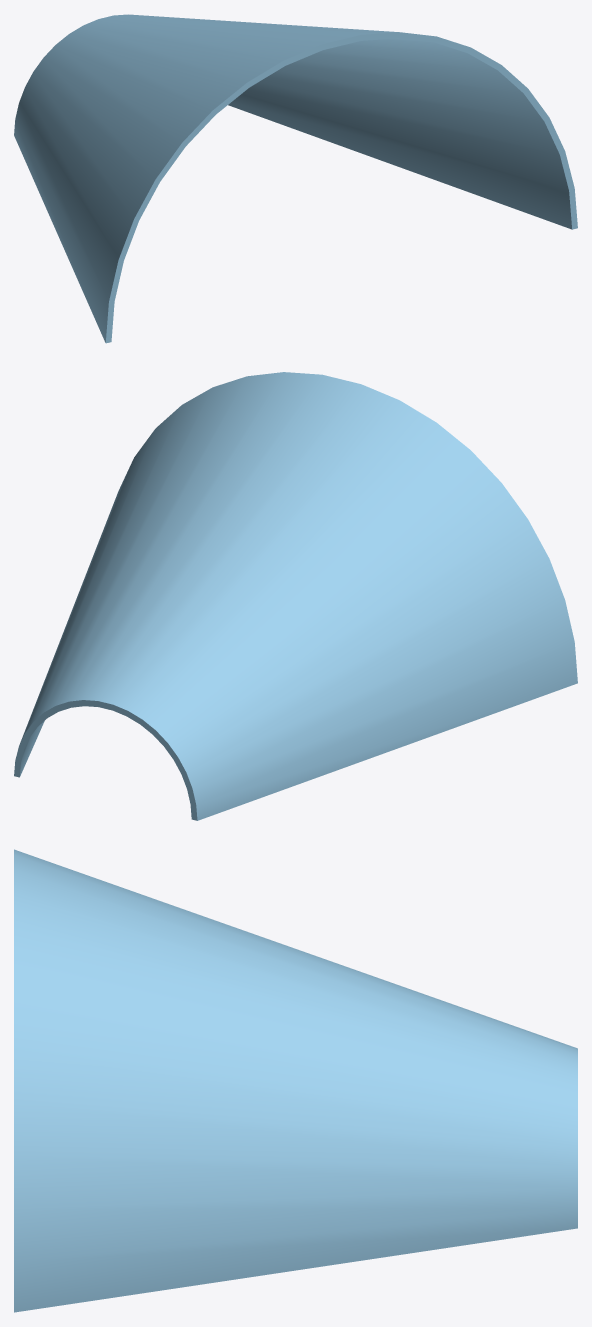
File: Cover_Sheet.dae
3 renders of one model, top to bottom at view 1: azimuth 30°, elevation 25°; view 2: azimuth 150°, elevation 25°; view 3: azimuth 270°, elevation 25°, orthographic. The views are drawn at different scales.
Parts seen in each view (by area): view 1: ID2; view 2: ID2; view 3: ID2.
Part boxes in pixels (x1=…): ID2: x1=14, y1=14, x2=577, y2=343; ID2: x1=14, y1=372, x2=577, y2=820; ID2: x1=14, y1=849, x2=577, y2=1312.
Bounding box in the file's own units: 0.1633 × 0.1414 × 0.0814.
